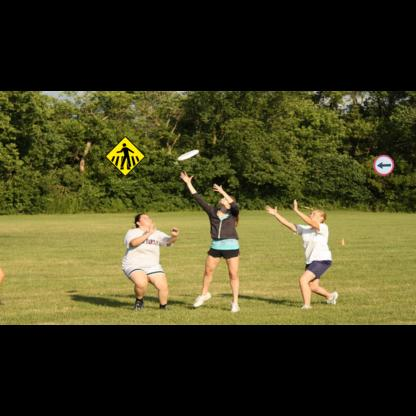A-32b: (105, 136, 146, 177)
R-24a: (373, 155, 394, 175)
